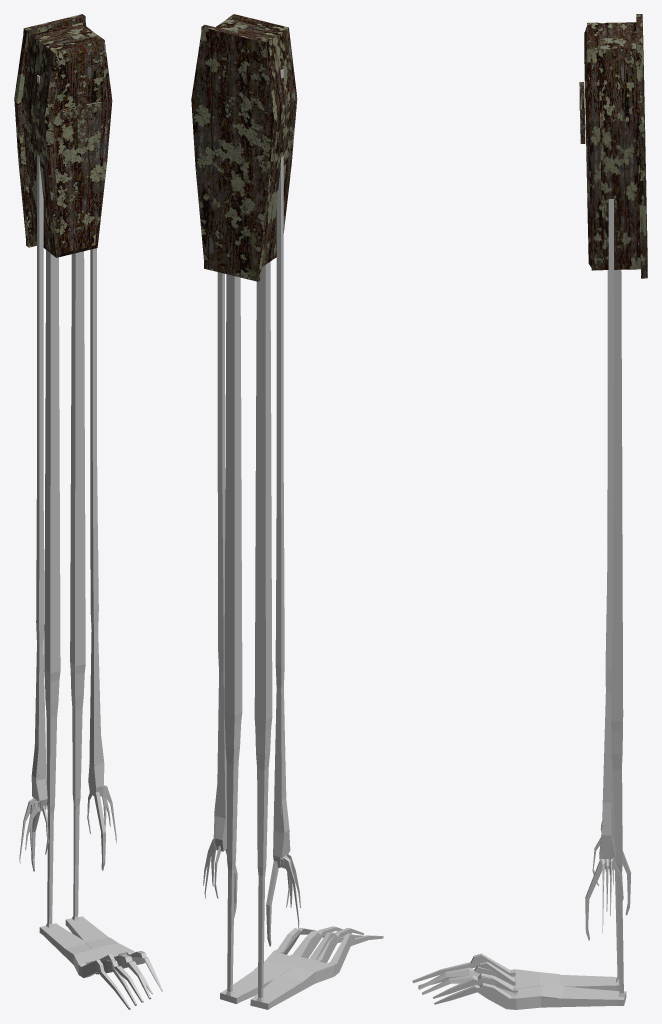
The model's file is limbo_coffin2.fbx.
3 renders of one model, left to right at view 1: azimuth 30°, elevation 25°; view 2: azimuth 150°, elevation 25°; view 3: azimuth 270°, elevation 25°, orthographic. The views are drawn at different scales.
Visible parts, largest first — view 1: Casket, Cube.002, Cube.001, Cube.010, Cube.011, Cube.007, Cube.004, Cube.003, Cube, Cube.005; view 2: Casket, Cube.001, Cube.002, Cube.010, Cube.011, Cube.007, Cube.004, Cube.003, Cube, Cube.008; view 3: Casket, Cube.011, Cube.001, Cube.010, Cube.004, Cube.
Part boxes in pixels (bbox=[...]): Casket: bbox=[14, 14, 112, 257]; Cube.002: bbox=[44, 250, 60, 681]; Cube.001: bbox=[70, 251, 85, 674]; Cube.010: bbox=[39, 678, 152, 1009]; Cube.011: bbox=[65, 671, 162, 1005]; Cube.007: bbox=[19, 509, 48, 863]; Cube.004: bbox=[87, 503, 116, 843]; Cube.003: bbox=[36, 75, 43, 510]; Cube: bbox=[90, 248, 97, 505]; Cube.005: bbox=[93, 792, 105, 870]; Casket: bbox=[191, 14, 297, 281]; Cube.001: bbox=[224, 274, 242, 725]; Cube.002: bbox=[254, 261, 272, 730]; Cube.010: bbox=[250, 727, 383, 1009]; Cube.011: bbox=[220, 722, 364, 1003]; Cube.007: bbox=[273, 540, 300, 928]; Cube.004: bbox=[203, 535, 226, 898]; Cube.003: bbox=[276, 69, 283, 541]; Cube: bbox=[217, 272, 225, 536]; Cube.008: bbox=[266, 861, 278, 946]; Casket: bbox=[579, 14, 647, 278]; Cube.011: bbox=[418, 726, 626, 1009]; Cube.001: bbox=[611, 269, 623, 730]; Cube.010: bbox=[412, 755, 619, 998]; Cube.004: bbox=[599, 557, 623, 933]; Cube: bbox=[607, 199, 613, 557].
Bounding box in the file's own units: 736 × 6900 × 1517.
